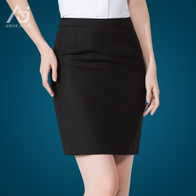F_tailored skirt: (43, 13, 150, 165)
